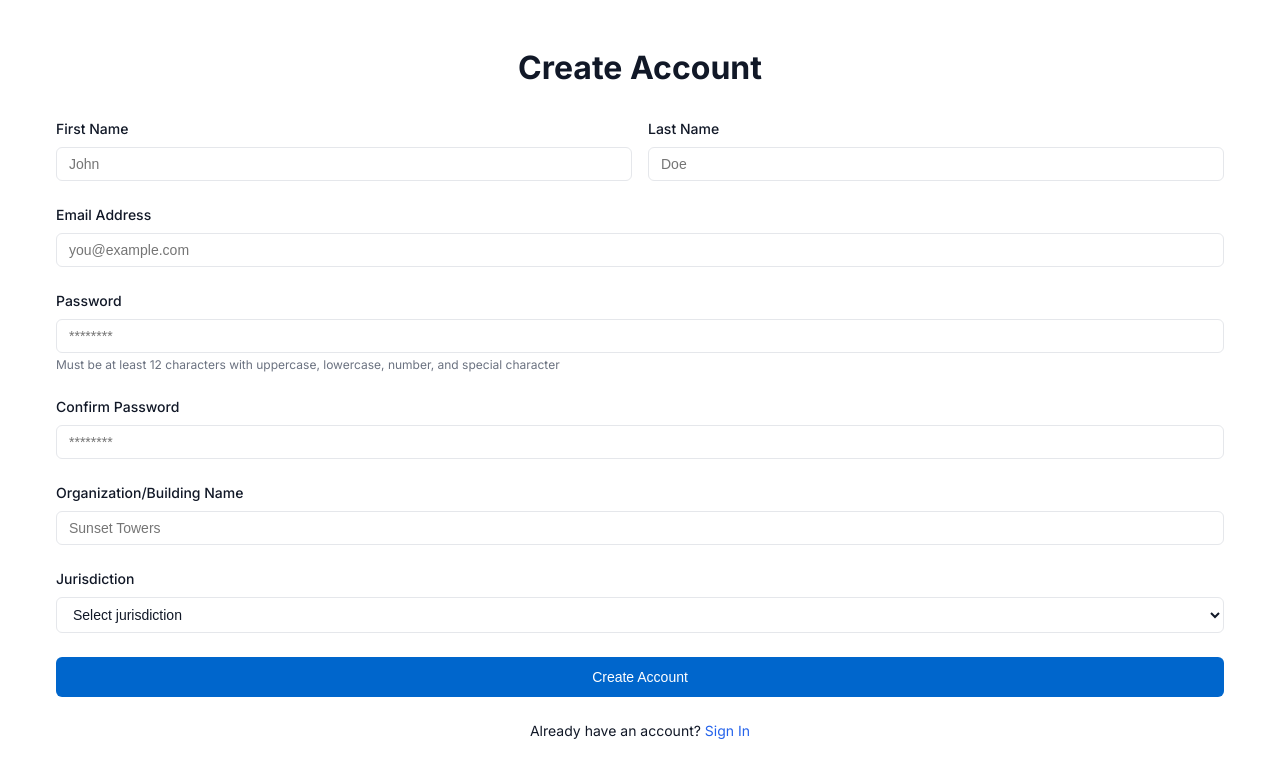
Test case: Phase 2.2: Authentication UI › Sign Up Page › validates form fields
Try to submit empty form
Click the button "Create Account" at (640, 677), box [56,657,1224,697]
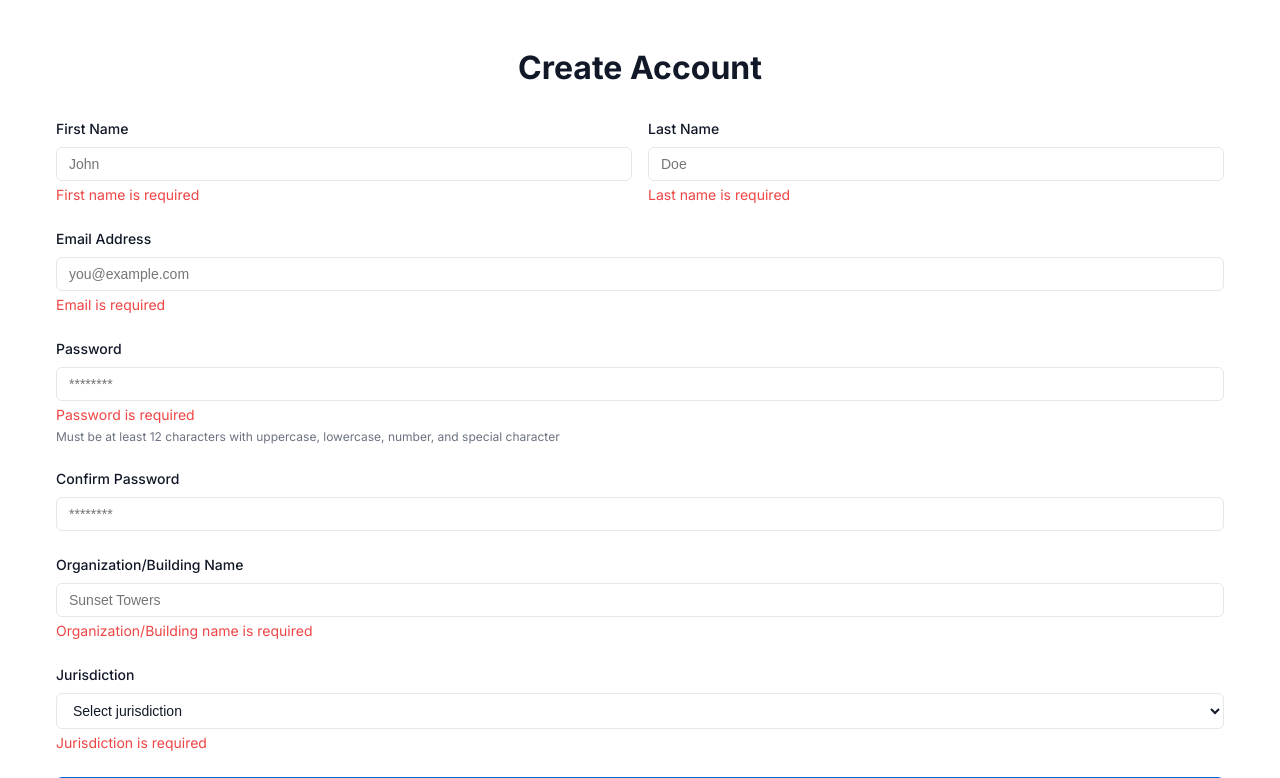
Expected: the text "Email is required" is shown, [56,296,165,313]
Expected: the text "Password is required" is shown, [56,406,195,423]
Expected: the text "Organization/Building name is required" is shown, [56,622,312,639]
